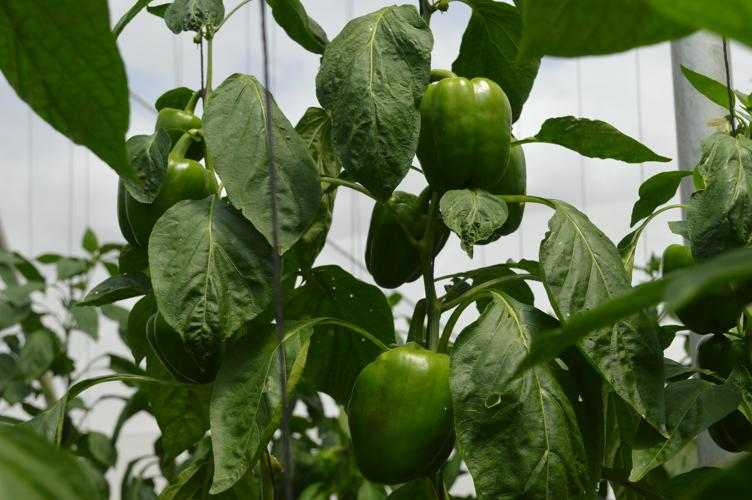BellPepper: (345, 341, 457, 481), (413, 76, 511, 195), (111, 157, 215, 248), (361, 197, 448, 283), (456, 134, 526, 239), (655, 248, 736, 334), (144, 316, 224, 389)
